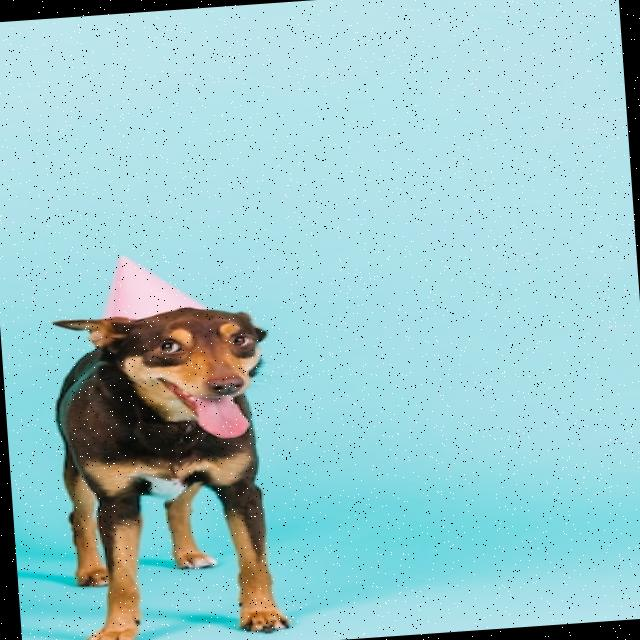Dog: (0, 300, 287, 640)
